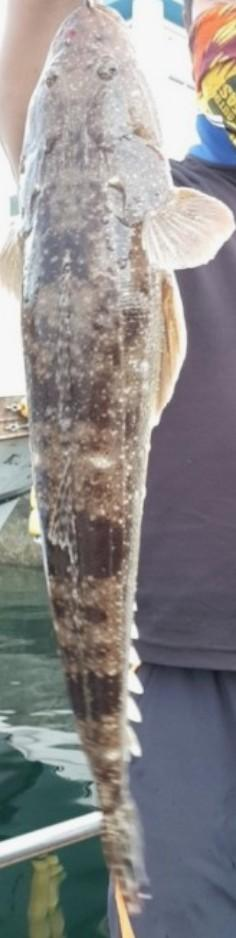fish: (15, 0, 232, 937)
